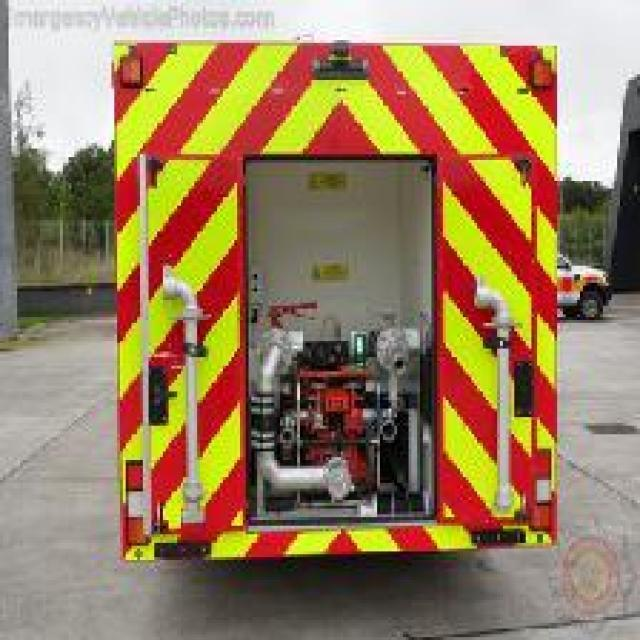emergency: (109, 38, 564, 566)
